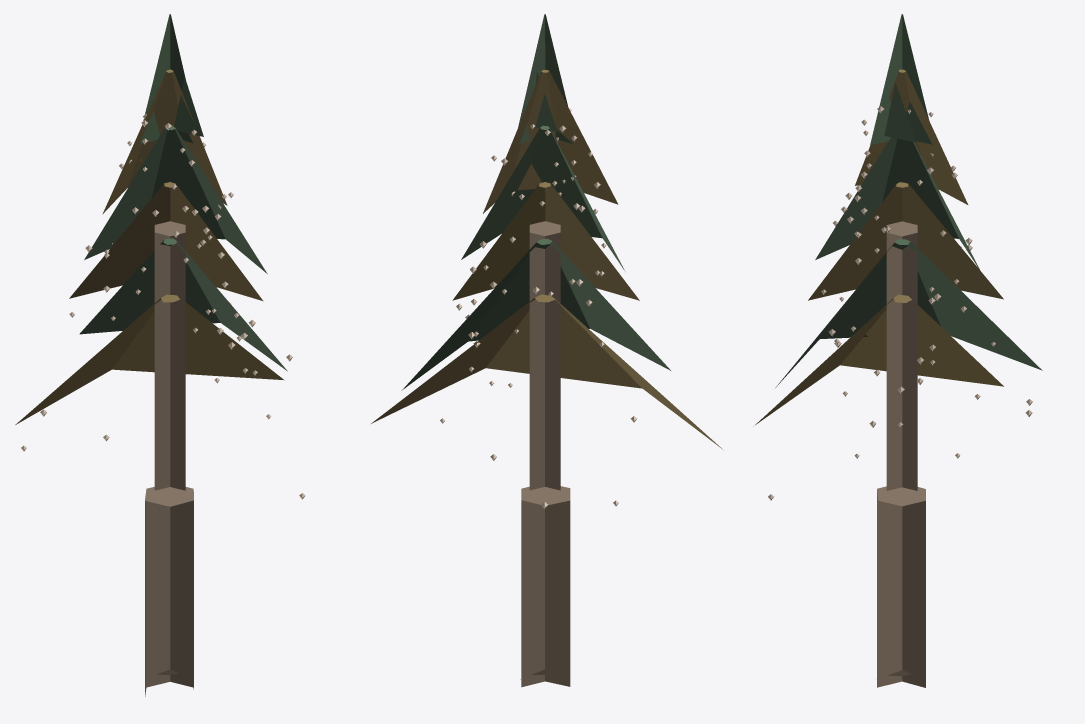
The model's file is shu.masan@flowering__autumn.glb.
3 views of the same model, side by side, from view 1: azimuth 30°, elevation 25°; view 2: azimuth 150°, elevation 25°; view 3: azimuth 270°, elevation 25° (orthographic).
Parts seen in each view (by area): view 1: shu.masan@flowering__autumn; view 2: shu.masan@flowering__autumn; view 3: shu.masan@flowering__autumn.
Part boxes in pixels (box(x1,y1,x2,y2)): shu.masan@flowering__autumn: box(15, 14, 305, 696); shu.masan@flowering__autumn: box(371, 14, 722, 687); shu.masan@flowering__autumn: box(753, 14, 1042, 687).
Size of the model in its own units: 8.49 by 18.78 by 7.95.
